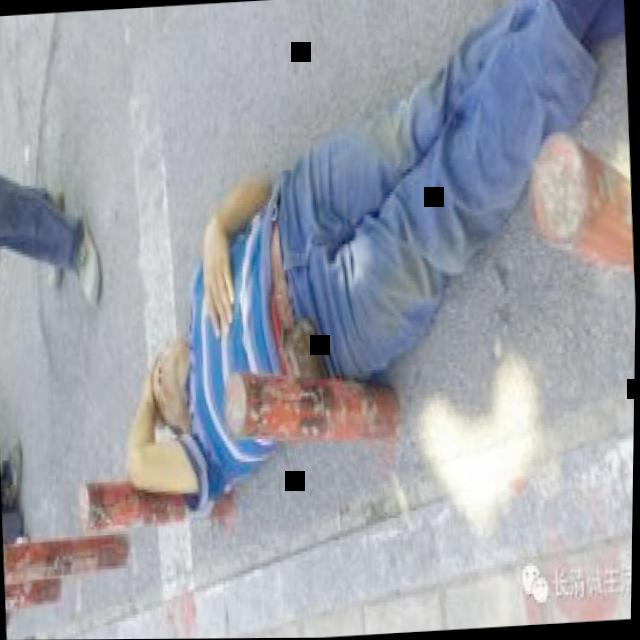Fall-Detected: (83, 0, 640, 547)
